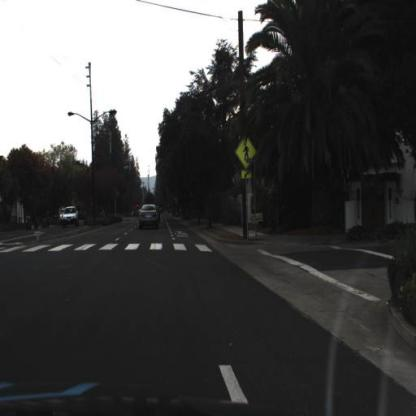car: (134, 192, 164, 233), (62, 204, 82, 230), (157, 202, 163, 228)
